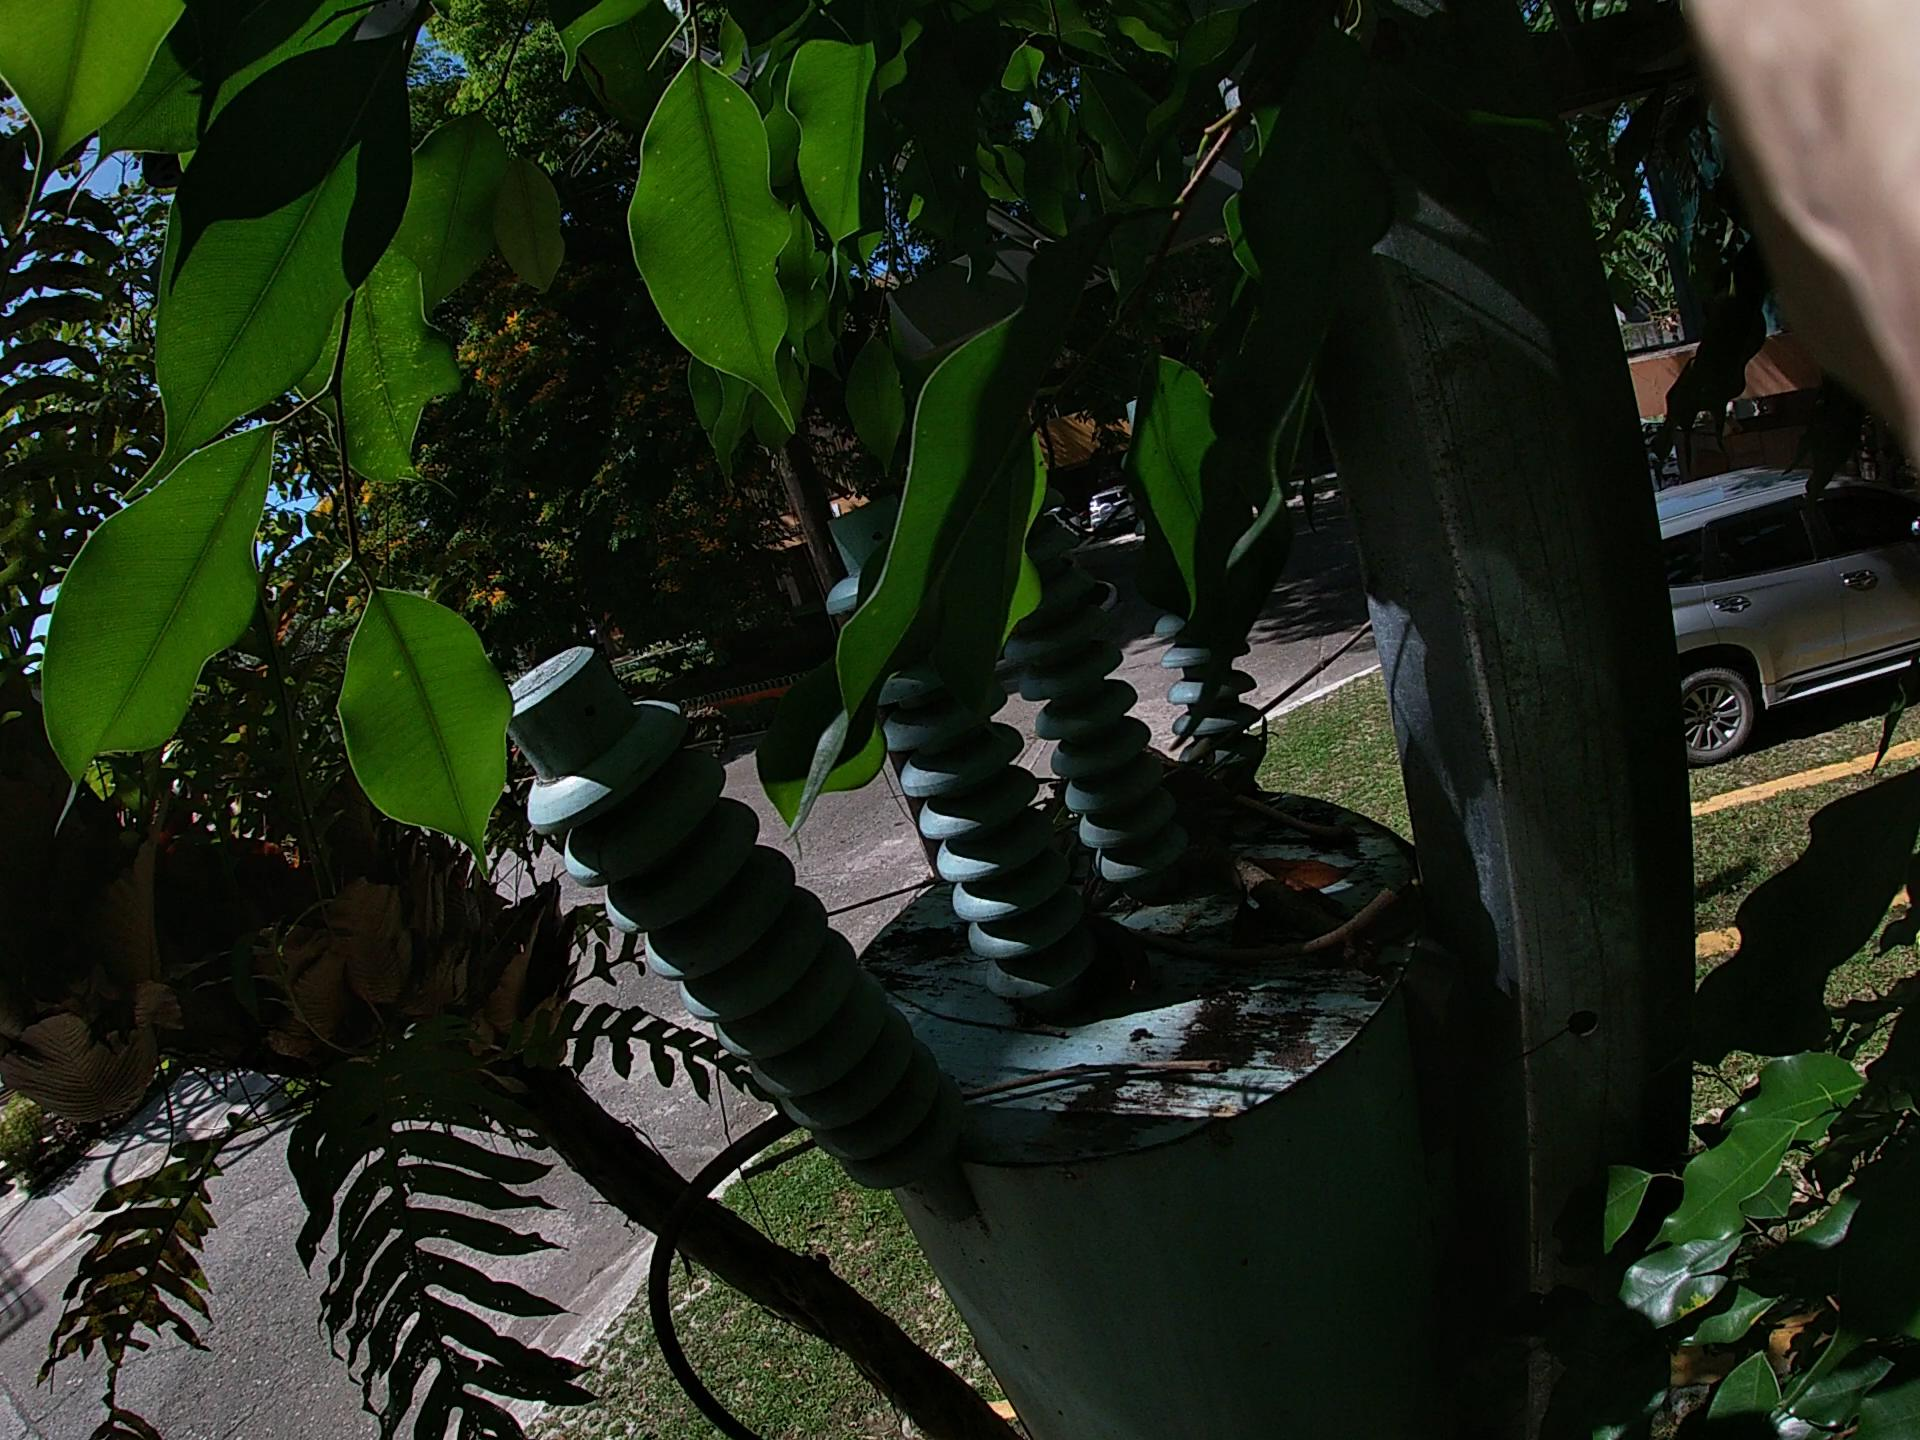leaf: (1261, 815, 1336, 926)
tree branch: (491, 523, 1445, 1299), (674, 1054, 1240, 1249), (1128, 914, 1407, 1013), (1231, 846, 1341, 977)
